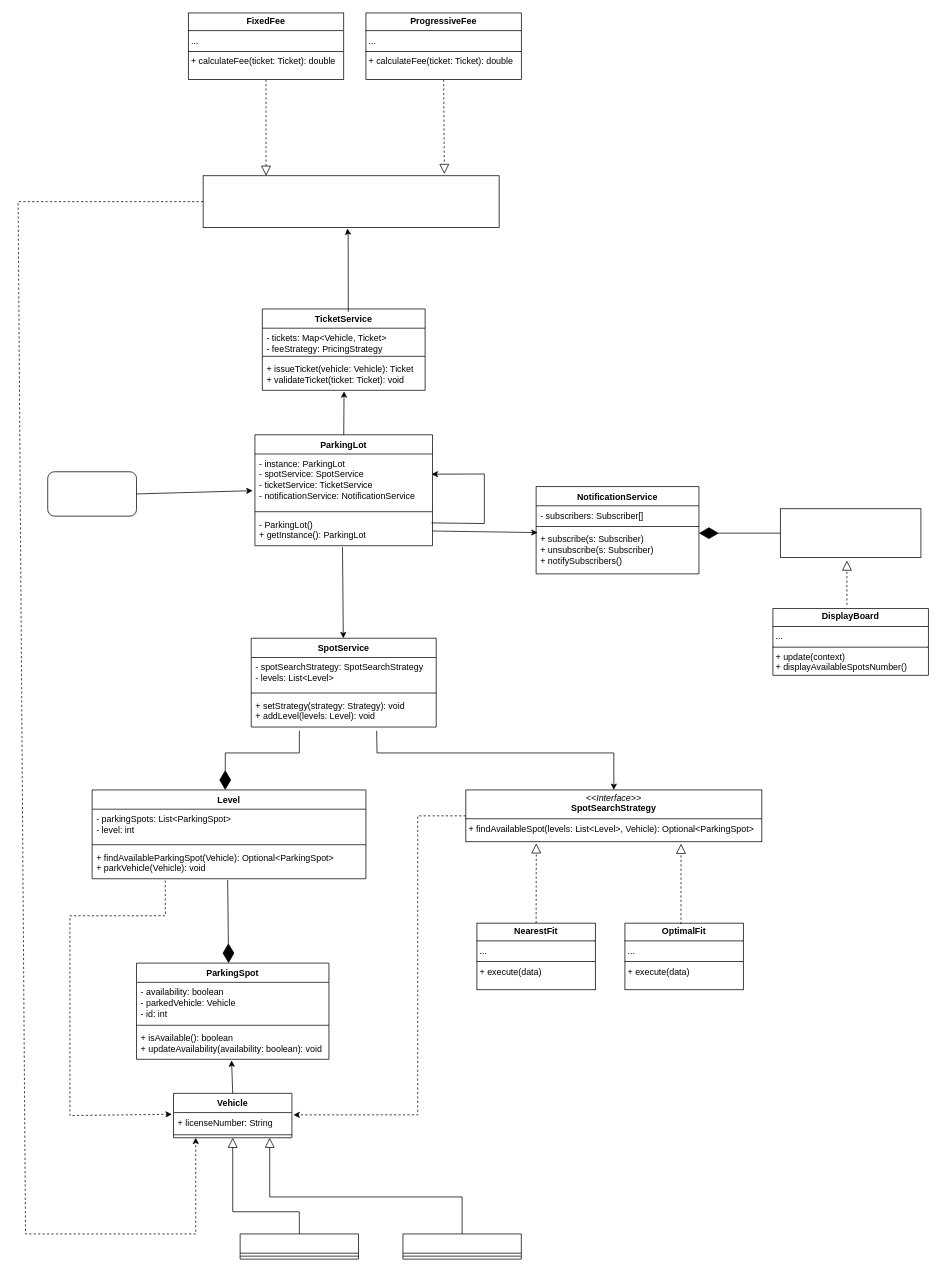
This 941x1272 diagram has some shape labels left out. Here are the shapes that lost their labels. From the top down, the centre of each, then its label:
At (x=350, y=201): "<<Interface>> PricingStrategy + calculateFee(ticket: Ticket): double".
At (x=92, y=493): "Client".
At (x=850, y=533): "<<Interface>> Subscriber + update(context)".
At (x=299, y=1246): "Car".
At (x=461, y=1246): "Truck".
